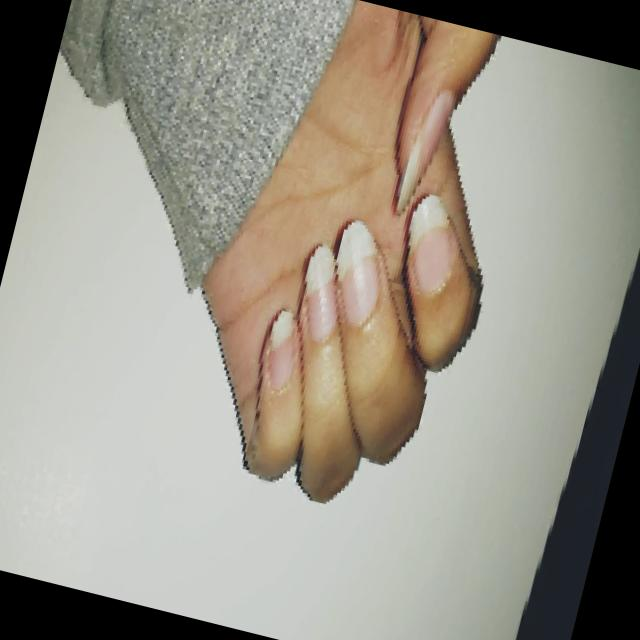Nail: (395, 91, 453, 209), (407, 196, 454, 293), (335, 222, 377, 326), (304, 245, 336, 340), (268, 310, 294, 388)
